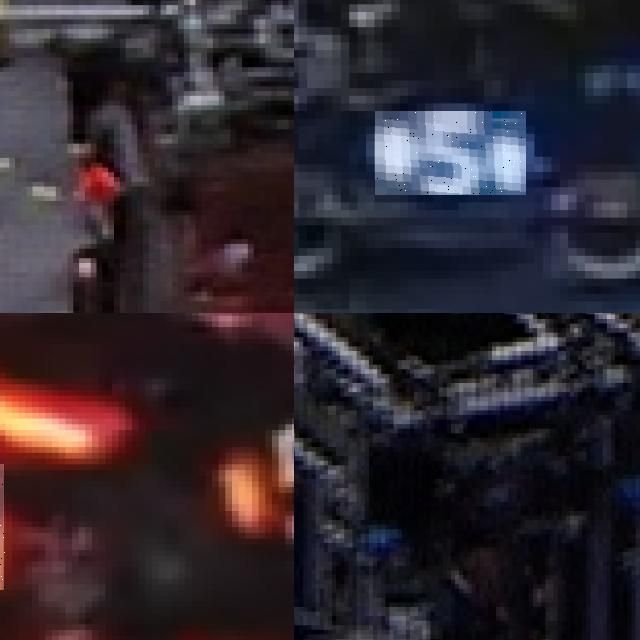B5: (375, 111, 526, 195)
R5: (225, 407, 294, 532)
